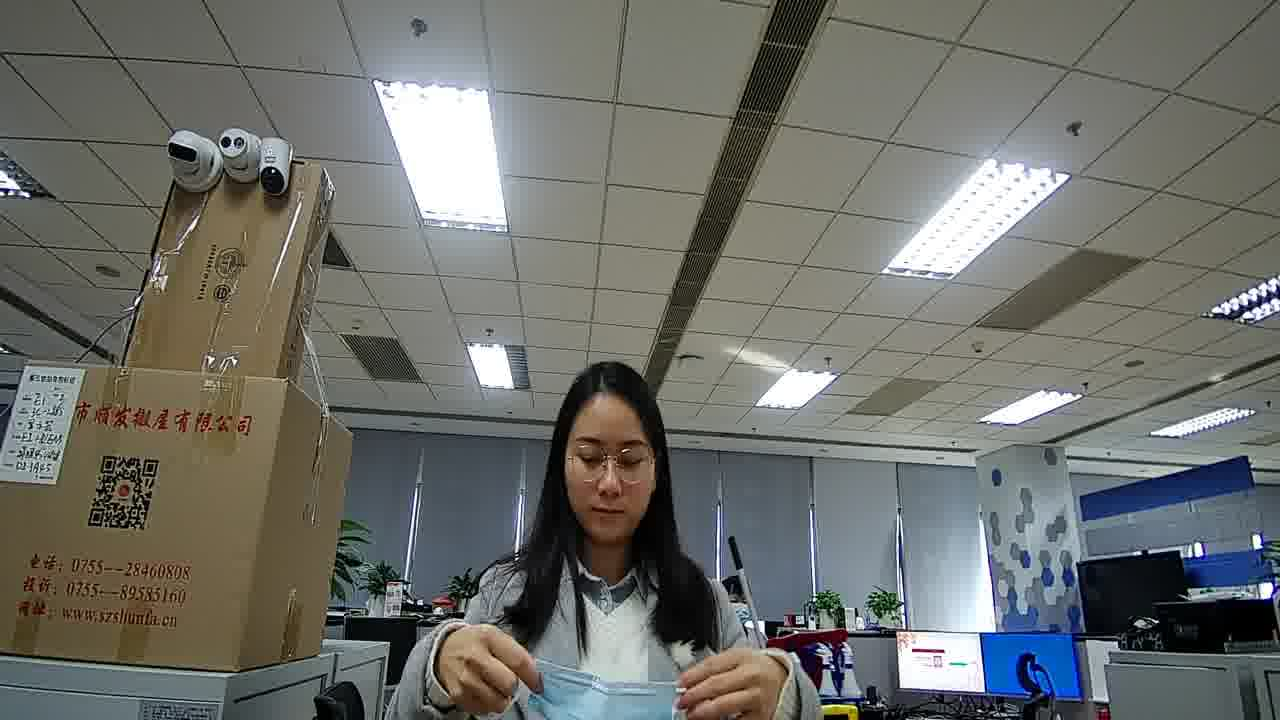face: (562, 401, 660, 551)
person: (459, 362, 742, 645)
